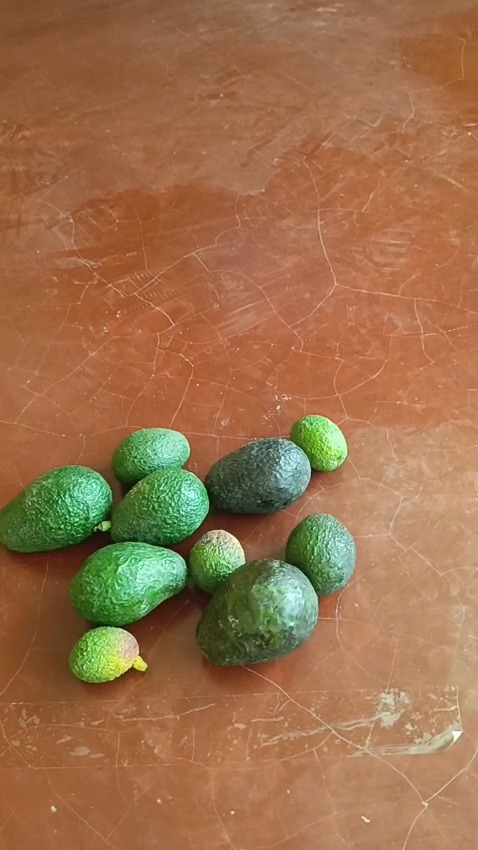Primera: (196, 558, 319, 664), (69, 540, 188, 625), (0, 465, 112, 552), (203, 438, 311, 514), (108, 467, 209, 546)
Segunda: (285, 512, 357, 595), (112, 427, 192, 487)
Tercera: (69, 625, 139, 682), (188, 529, 246, 593), (288, 414, 347, 471)
